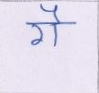e_matra: (40, 3, 63, 21)
